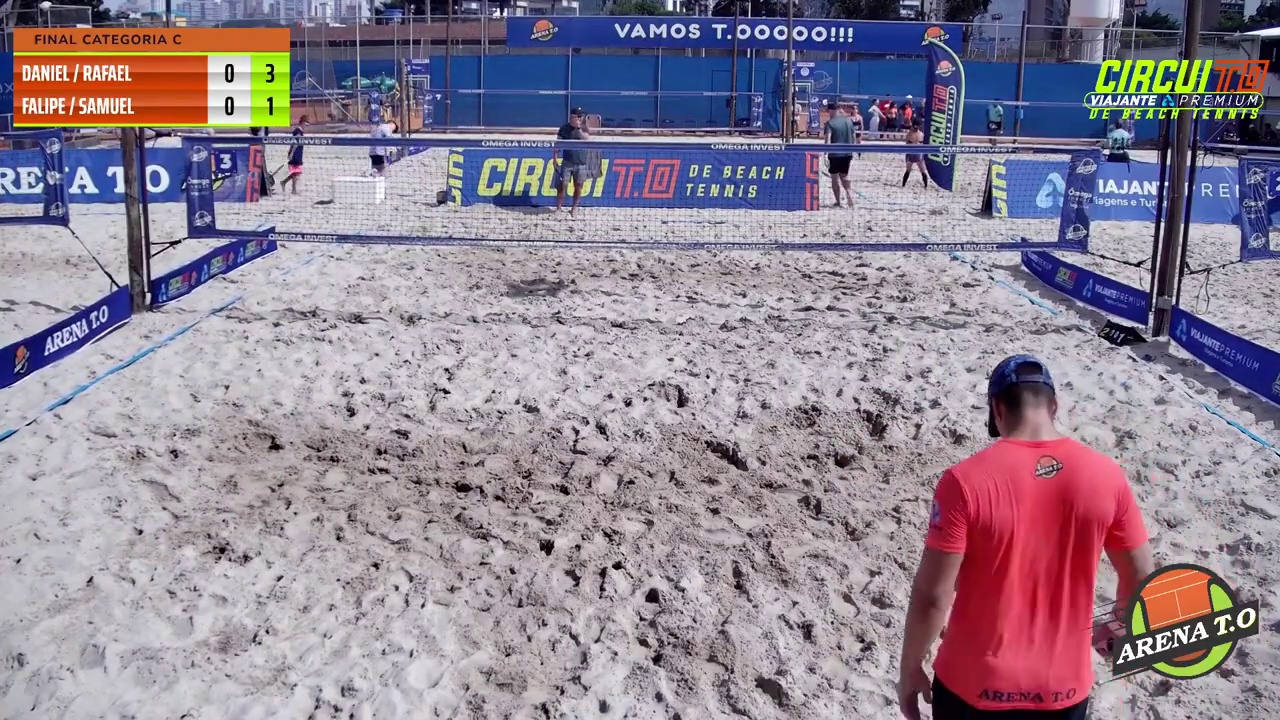court_line: (620, 0, 820, 418)
